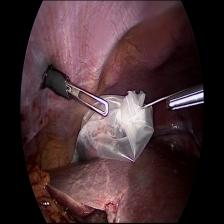Grasper: (68, 80, 110, 116), (165, 85, 204, 113)
Specimen Bag: (68, 87, 154, 166)
